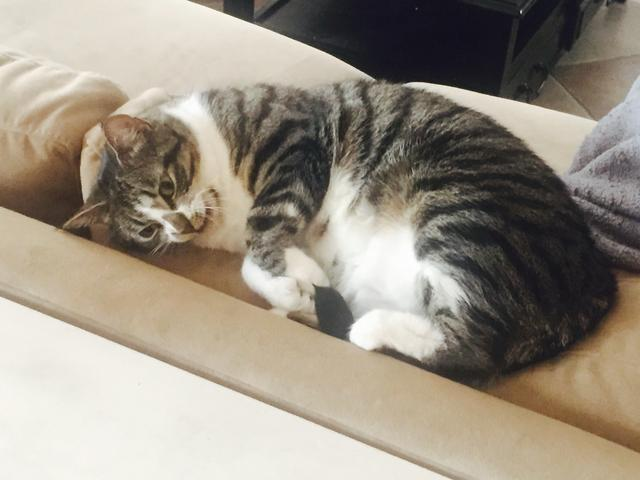playdoh: (57, 79, 619, 383)
